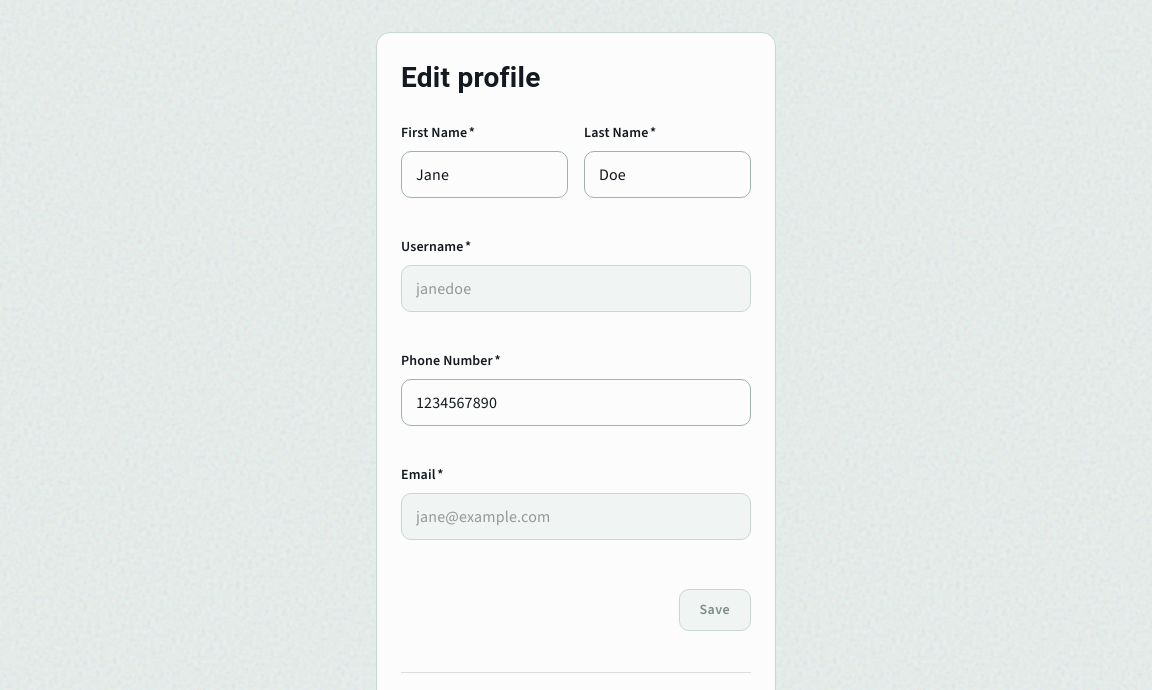
Test: EditProfile › disables Save until a field actually changes
The image size is (1152, 690).
Expected: the button "Save" is disabled, [679,589,751,631]
Step 1. Replace the text in the field named "firstName" below "First Name" with "Janet" → (484, 175), box [416,163,553,186]
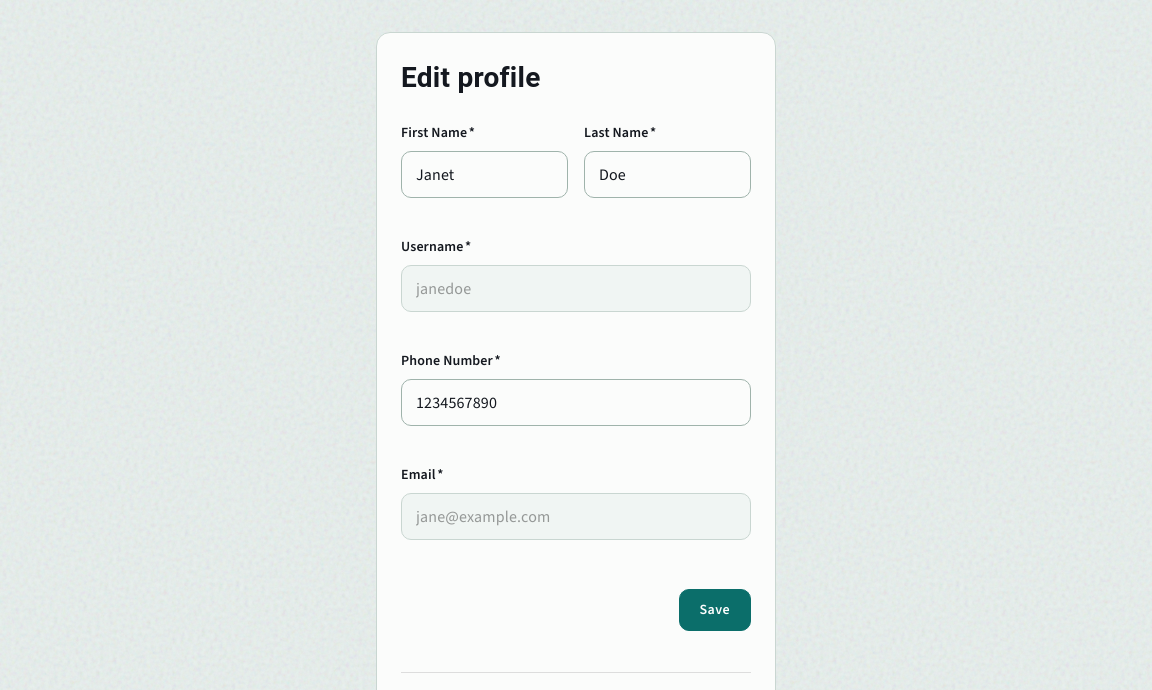
Expected: the button "Save" is enabled, [679,589,751,631]
